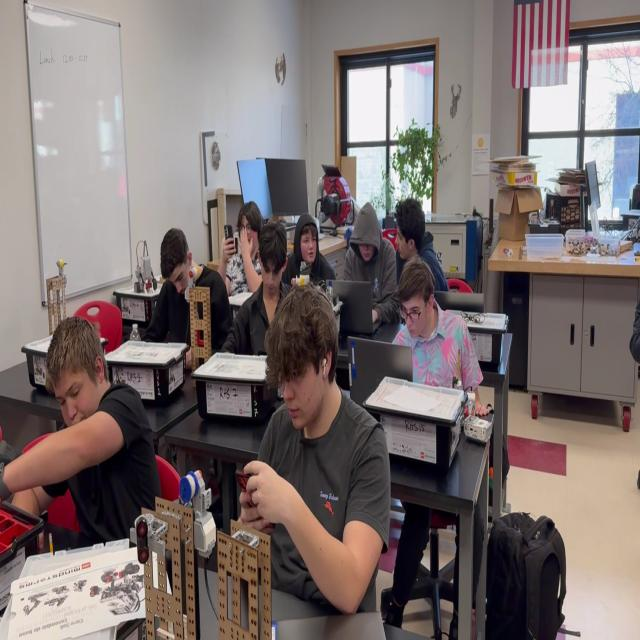pen: (235, 468, 276, 530), (224, 224, 235, 256), (258, 348, 268, 377)
